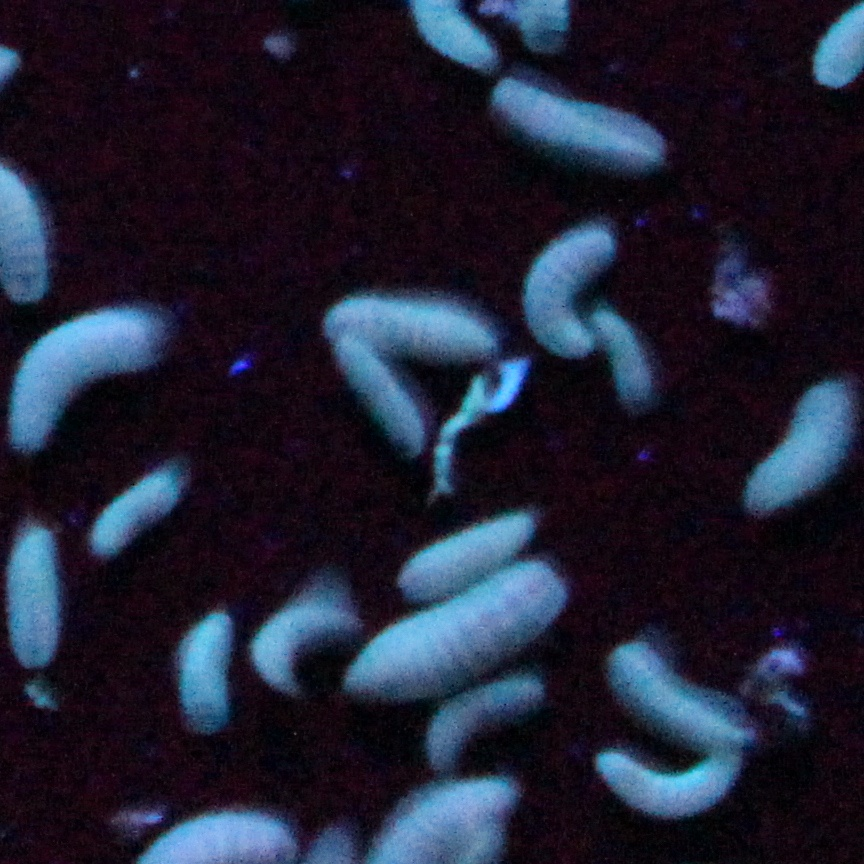larve: (347, 560, 572, 706), (13, 311, 156, 454), (499, 75, 665, 165), (745, 380, 853, 510), (615, 648, 750, 744), (522, 229, 612, 359), (398, 515, 531, 598), (426, 681, 540, 773), (249, 608, 362, 700), (324, 299, 498, 357), (337, 336, 422, 450), (596, 752, 737, 819), (8, 522, 61, 667), (91, 469, 176, 555), (181, 610, 231, 729), (594, 308, 654, 407)
